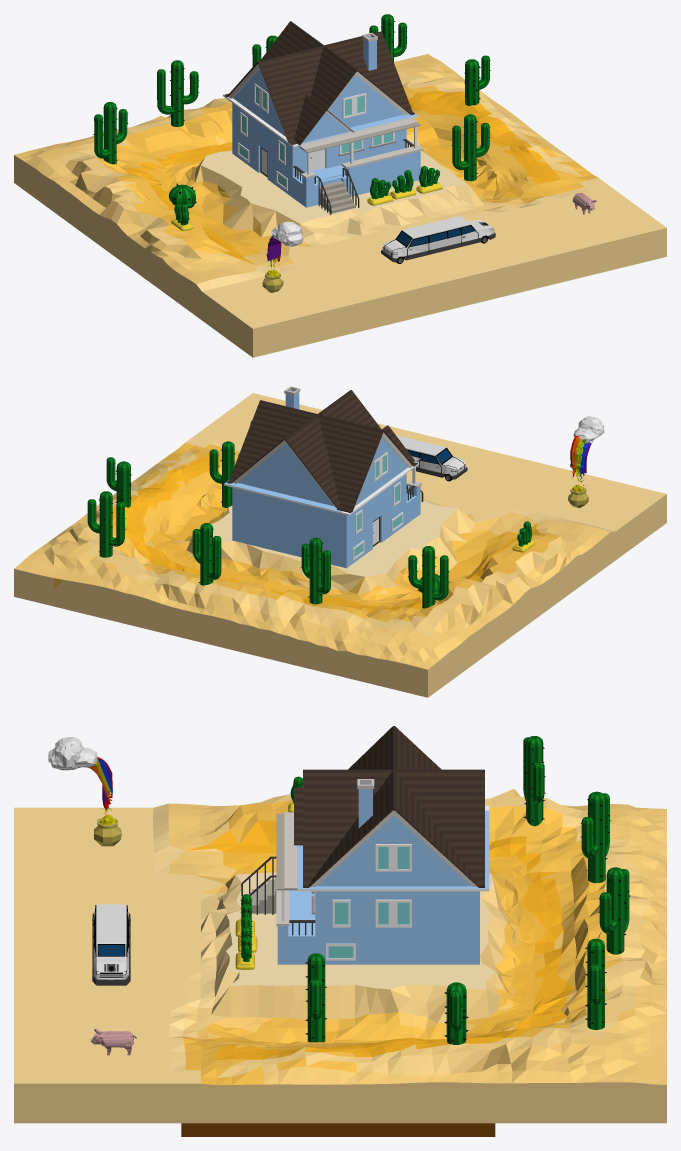
3 views of the same model, one above another, from view 1: azimuth 30°, elevation 25°; view 2: azimuth 150°, elevation 25°; view 3: azimuth 270°, elevation 25° (orthographic). The views are drawn at different scales.
Visible parts, largest first — view 1: Cube.001, Cube.1594, VEHICLES_LIMOUSINE, Cylinder.044, Cylinder.037, Cylinder.045, OBJRANDOM_RAINBOW, Cylinder.038, Cylinder.042, Cylinder.039, Cylinder.041; view 2: Cube.001, Cube.1594, Cylinder.042, VEHICLES_LIMOUSINE, OBJRANDOM_RAINBOW, Cylinder.045, Cylinder.044, Cylinder.043, Cylinder.037, Cylinder.038; view 3: Cube.001, Cube.1594, UNDERGROUND_ART_PIECE_VAN_GOGH, VEHICLES_LIMOUSINE, OBJRANDOM_RAINBOW, Cylinder.043, Cylinder.044, Cylinder.045, Cylinder.037, Cylinder.042, Cylinder.038, ANIMAL_CERDO (+1 smaller).
Boxes of the visible parts, <box> form: Cube.001: <box>14,54,666,357</box>; Cube.1594: <box>223,21,423,214</box>; VEHICLES_LIMOUSINE: <box>381,216,495,263</box>; Cylinder.044: <box>157,60,199,126</box>; Cylinder.037: <box>451,114,490,181</box>; Cylinder.045: <box>93,102,128,164</box>; OBJRANDOM_RAINBOW: <box>262,221,303,292</box>; Cylinder.038: <box>464,55,490,105</box>; Cylinder.042: <box>369,14,407,62</box>; Cylinder.039: <box>367,178,393,205</box>; Cylinder.041: <box>416,166,442,193</box>; Cube.001: <box>14,393,666,697</box>; Cube.1594: <box>224,386,423,568</box>; Cylinder.042: <box>87,491,125,557</box>; VEHICLES_LIMOUSINE: <box>396,435,467,481</box>; OBJRANDOM_RAINBOW: <box>568,416,604,508</box>; Cylinder.045: <box>408,546,449,608</box>; Cylinder.044: <box>301,537,331,604</box>; Cylinder.043: <box>192,523,221,585</box>; Cylinder.037: <box>209,441,239,507</box>; Cylinder.038: <box>106,457,131,507</box>; Cube.001: <box>14,789,666,1123</box>; Cube.1594: <box>241,726,489,964</box>; UNDERGROUND_ART_PIECE_VAN_GOGH: <box>181,1123,495,1136</box>; VEHICLES_LIMOUSINE: <box>92,904,130,985</box>; OBJRANDOM_RAINBOW: <box>48,737,121,846</box>; Cylinder.043: <box>598,867,630,954</box>; Cylinder.044: <box>580,791,610,883</box>; Cylinder.045: <box>523,736,545,826</box>; Cylinder.037: <box>305,953,326,1042</box>; Cylinder.042: <box>585,938,606,1029</box>; Cylinder.038: <box>444,982,468,1044</box>; ANIMAL_CERDO: <box>90,1028,136,1055</box>.
Size of the model in its own units: 4002 by 1752 by 4001.
Materials: 39 (3 with a texture image).
